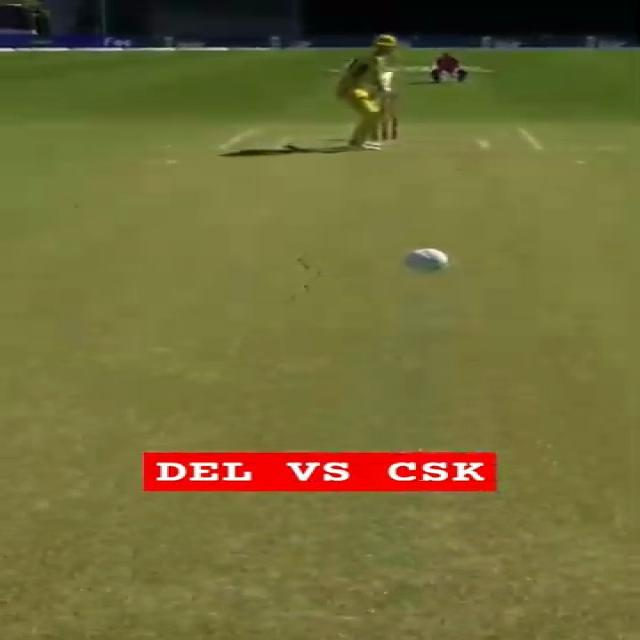ball: (404, 246, 457, 275)
